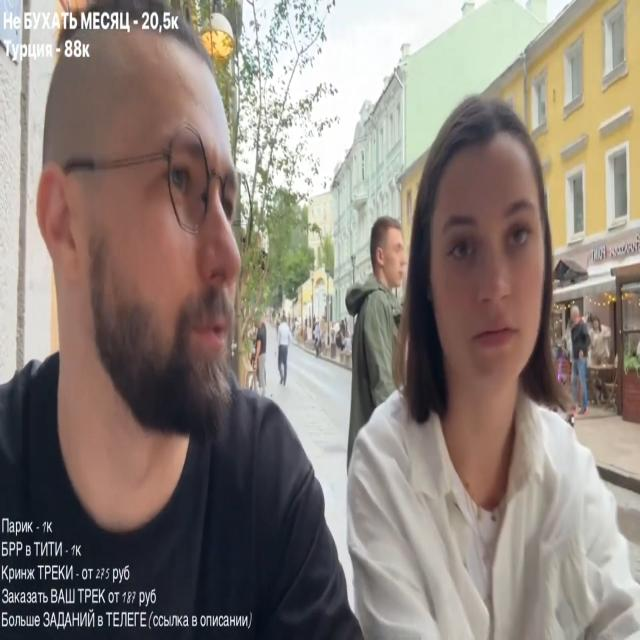Person: (0, 2, 358, 637), (339, 93, 640, 640), (346, 214, 411, 442), (568, 309, 592, 413), (276, 318, 292, 387)
